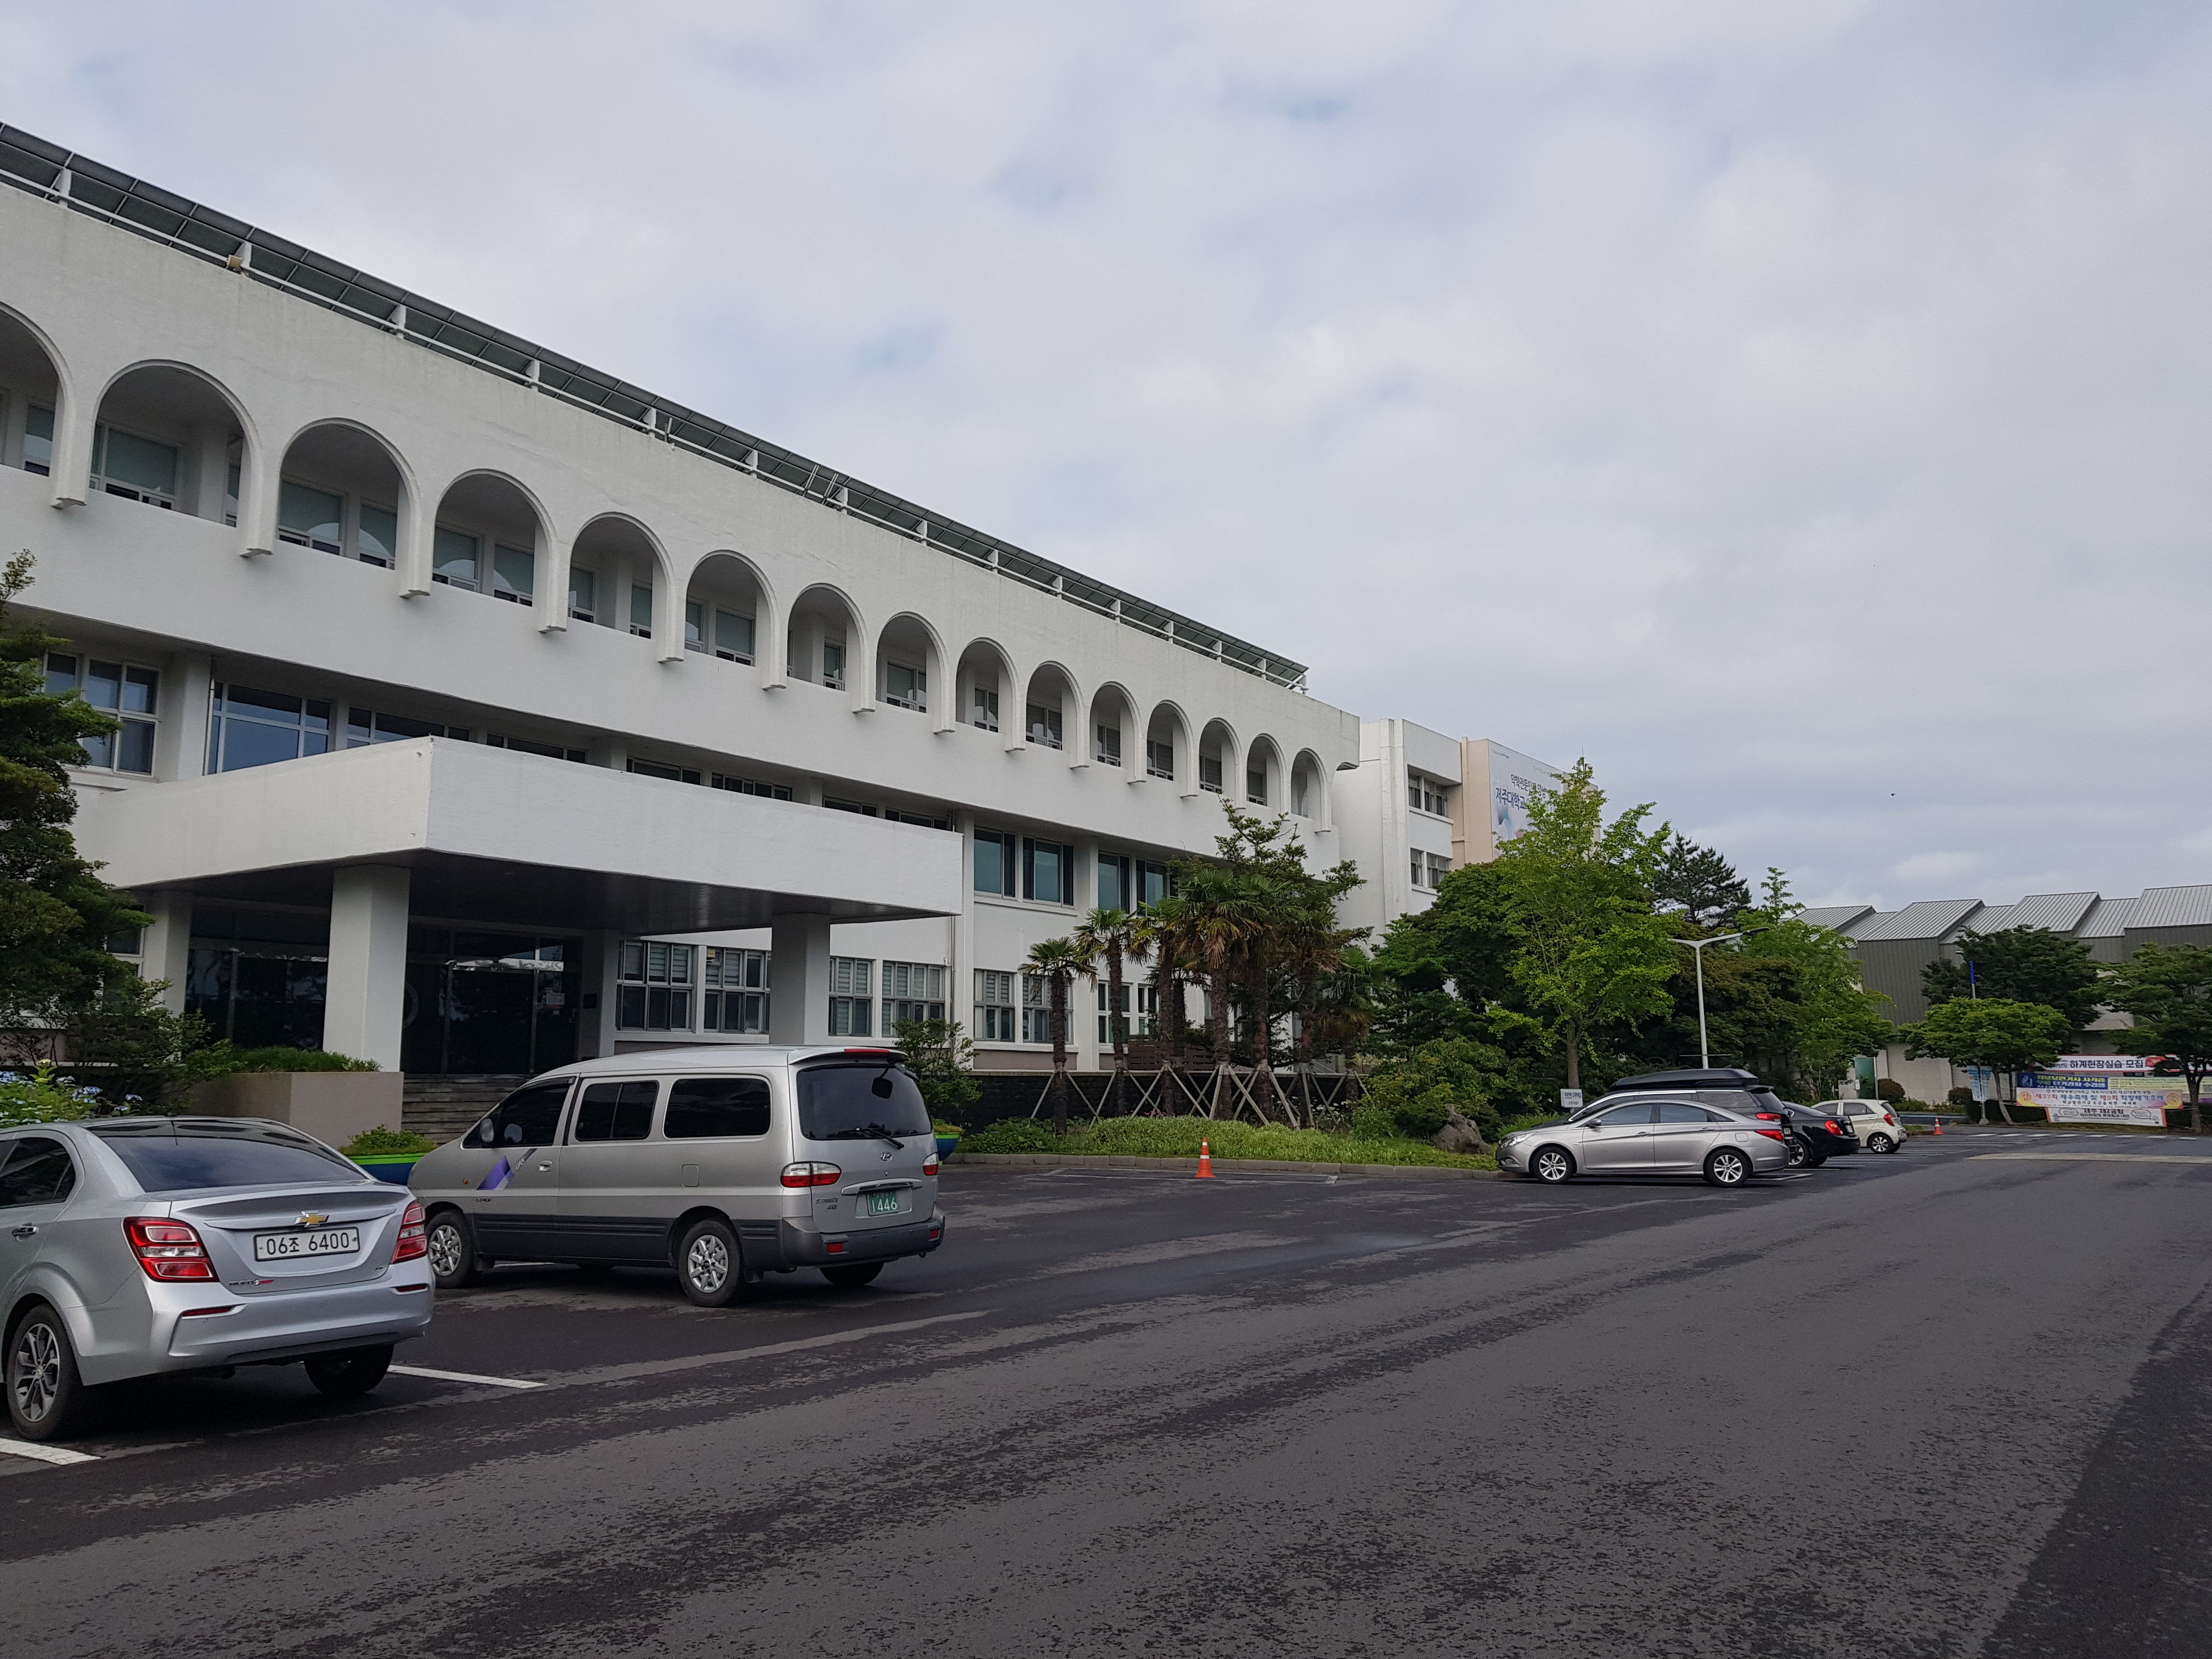Gym: (1738, 873, 2202, 1068)
Main Building of University: (35, 164, 1585, 1049), (45, 321, 791, 706), (80, 732, 986, 1032), (786, 579, 1320, 833), (1362, 699, 1562, 927)
